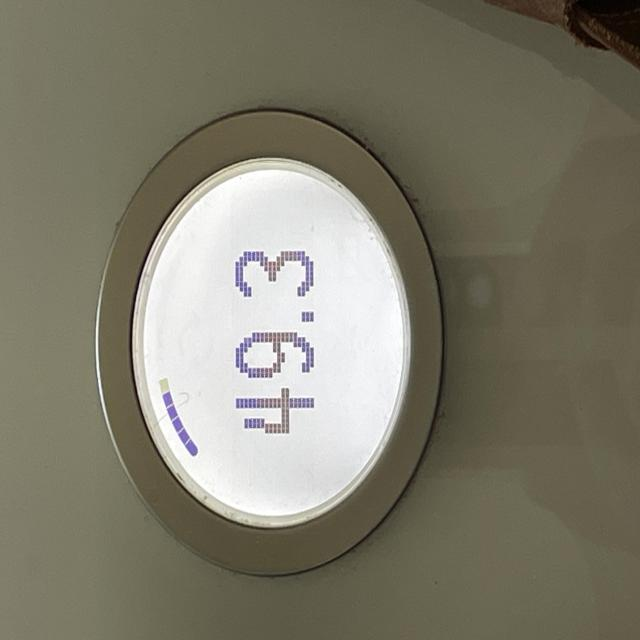ws: (95, 144, 444, 580)
